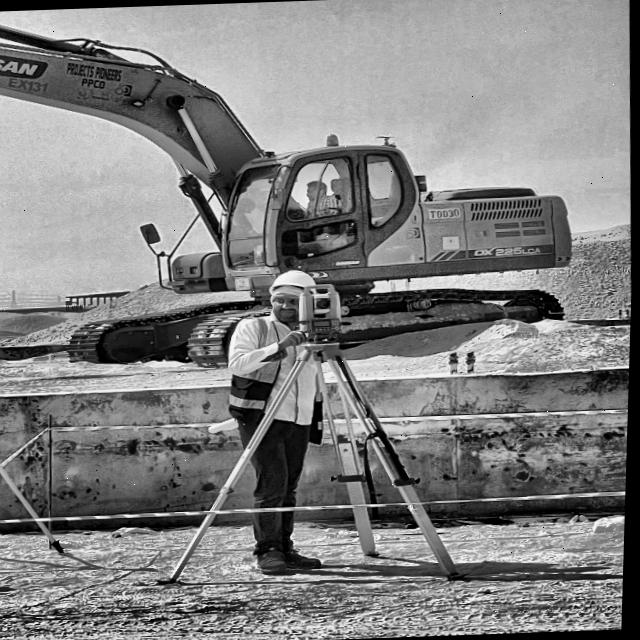excavator: (0, 0, 586, 388)
